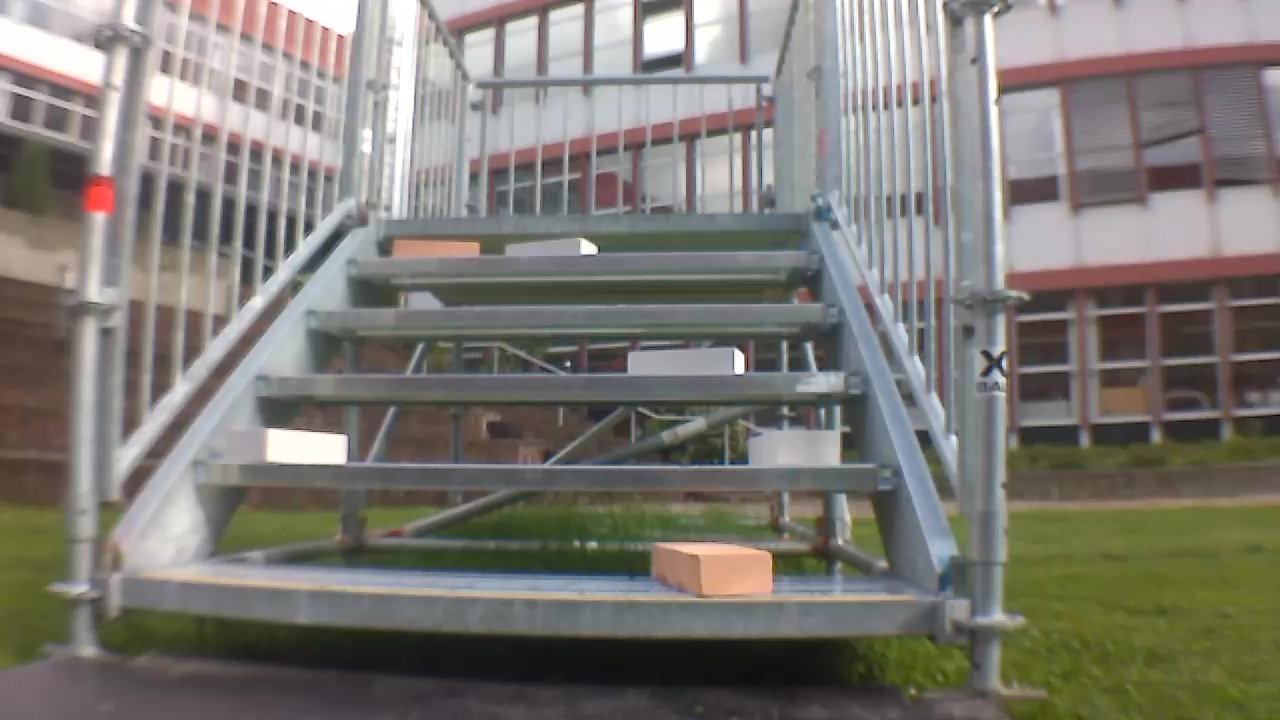brick: (652, 540, 772, 595), (228, 428, 347, 462), (747, 430, 839, 465), (629, 349, 745, 375), (506, 238, 595, 256), (393, 240, 479, 256)
edge: (122, 578, 930, 636), (190, 462, 900, 489), (251, 373, 864, 394), (346, 250, 820, 274), (303, 304, 844, 324), (384, 214, 809, 234)
stairs: (54, 2, 1024, 703)
steps: (116, 206, 939, 649)
